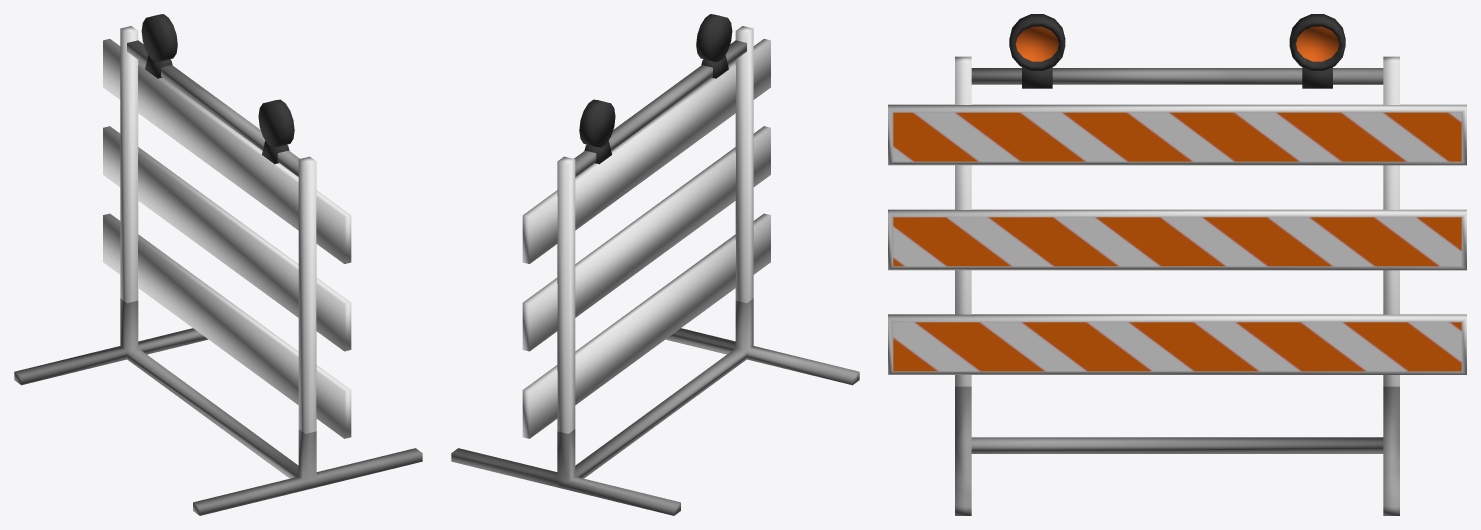
Rendered from barricade1.fbx.
The picture shows the model from 3 angles, left to right: view 1: azimuth 30°, elevation 25°; view 2: azimuth 150°, elevation 25°; view 3: azimuth 270°, elevation 25°; orthographic projection. The views are drawn at different scales.
Parts seen in each view (by area): view 1: barricade2; view 2: barricade2; view 3: barricade2.
Boxes of the visible parts, x1,y1,x2,y2 form: barricade2: [14, 14, 422, 515]; barricade2: [451, 14, 859, 515]; barricade2: [888, 14, 1466, 515].
Size of the model in its own units: 200 by 310 by 375.
